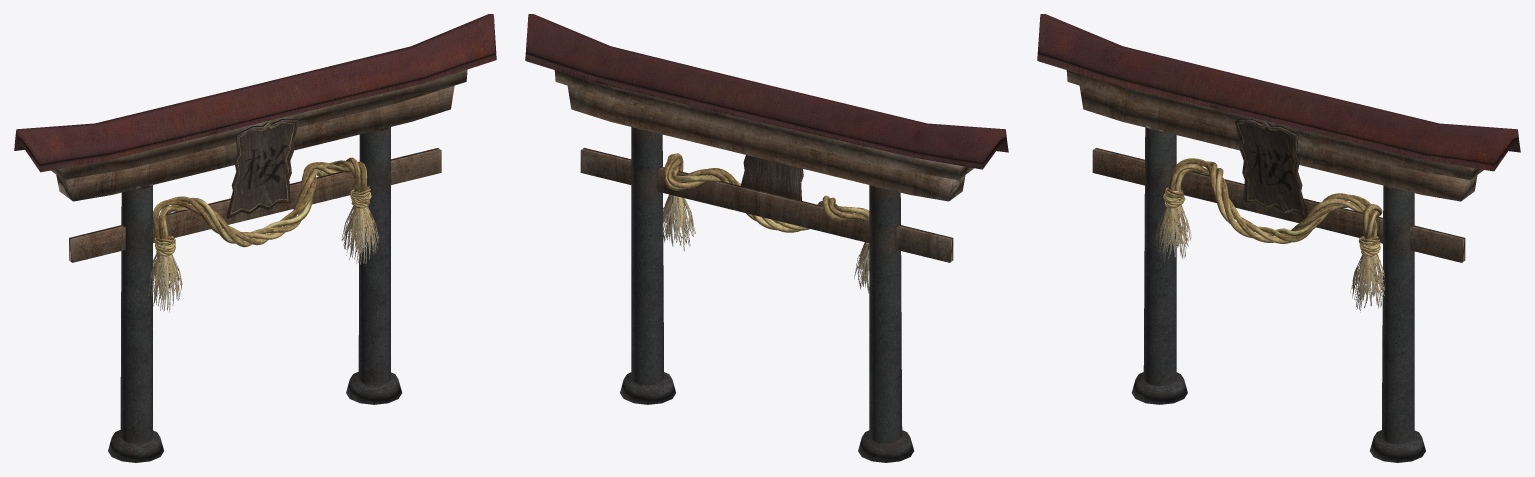
3 renders of one model, left to right at view 1: azimuth 30°, elevation 25°; view 2: azimuth 150°, elevation 25°; view 3: azimuth 330°, elevation 25°, orthographic.
Visible parts, largest first — view 1: Roof_low, Pillar01_low, Board02_low, Pillar02_low, Board01_low, Table_low, Board03_low, Gate:Rope_low1, Gate:pCylinder28, pCylinder28, Stand01_low, Stand02_high; view 2: Roof_low, Board02_low, Pillar01_low, Pillar02_low, Board01_low, Board03_low, Gate:Rope_low1, Table_low, Gate:pCylinder28, Stand02_high, Stand01_low, pCylinder28; view 3: Roof_low, Pillar02_low, Board02_low, Pillar01_low, Board01_low, Table_low, Board03_low, Gate:Rope_low1, pCylinder28, Gate:pCylinder28, Stand02_high, Stand01_low.
Part boxes in pixels (x1,y1,x2,y2): Roof_low: (14,14,496,172); Pillar01_low: (120,185,152,443); Board02_low: (56,85,454,201); Pillar02_low: (358,127,390,385); Board01_low: (69,148,441,262); Table_low: (226,119,299,218); Board03_low: (51,69,467,179); Gate:Rope_low1: (153,157,367,247); Gate:pCylinder28: (341,196,378,265); pCylinder28: (148,241,182,312); Stand01_low: (346,372,402,404); Stand02_high: (108,430,163,462); Roof_low: (525,14,1008,169); Board02_low: (567,86,965,201); Pillar01_low: (869,185,902,443); Pillar02_low: (631,127,663,385); Board01_low: (580,148,953,262); Board03_low: (554,70,973,179); Gate:Rope_low1: (663,153,869,232); Table_low: (740,155,803,200); Gate:pCylinder28: (661,194,695,251); Stand02_high: (858,430,913,462); Stand01_low: (620,372,675,404); pCylinder28: (854,242,869,293); Roof_low: (1037,14,1520,171); Pillar02_low: (1382,185,1414,444); Board02_low: (1079,86,1477,201); Pillar01_low: (1143,127,1176,386); Board01_low: (1092,148,1465,262); Table_low: (1234,119,1307,217); Board03_low: (1066,70,1483,179); Gate:Rope_low1: (1169,158,1382,243); pCylinder28: (1154,193,1191,261); Gate:pCylinder28: (1350,241,1385,312); Stand02_high: (1131,372,1187,404); Stand01_low: (1370,430,1425,462).
Size of the model in its own units: 2 by 1.4 by 0.2265.
1 material, 1 textured.
